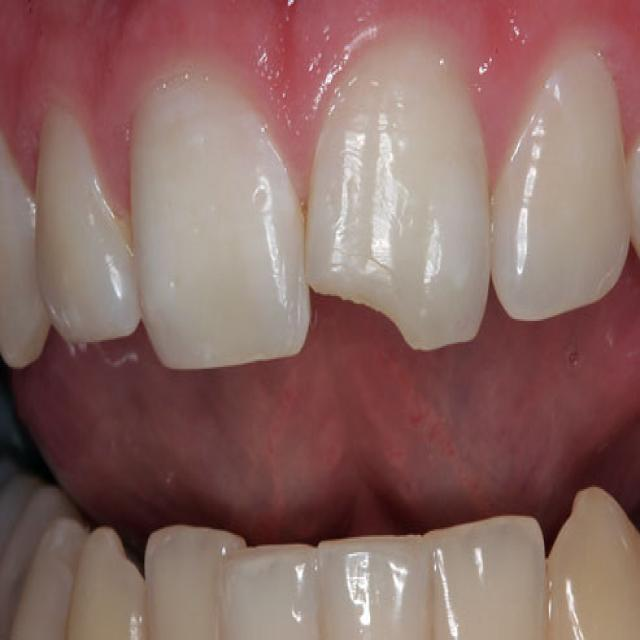Fractured Teeth: (304, 41, 488, 354)
